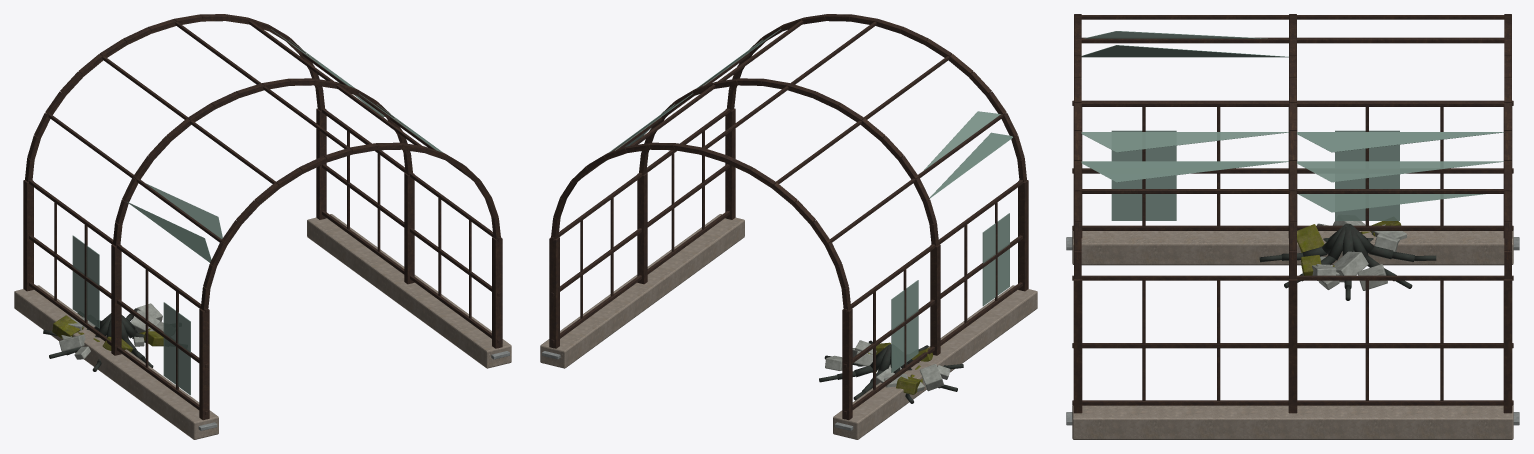
File: f3_v3_greenhouse_bay.glb
3 views of the same model, side by side, from view 1: azimuth 30°, elevation 25°; view 2: azimuth 150°, elevation 25°; view 3: azimuth 270°, elevation 25° (orthographic). The views are drawn at different scales.
Parts seen in each view (by area): view 1: f3_oxidized_iron_surface, f3_weathered_concrete_surface, filthy greenhouse remaining glass_surface, f3_exposed_aggregate_surface, f3_deep_crack_surface, f3_damp_concrete_surface; view 2: f3_oxidized_iron_surface, f3_weathered_concrete_surface, filthy greenhouse remaining glass_surface, f3_exposed_aggregate_surface, f3_deep_crack_surface, f3_damp_concrete_surface; view 3: f3_oxidized_iron_surface, f3_weathered_concrete_surface, filthy greenhouse remaining glass_surface, f3_deep_crack_surface, f3_exposed_aggregate_surface, f3_damp_concrete_surface.
Part boxes in pixels (x1,y1,x2,y2): f3_oxidized_iron_surface: (23,14,502,420); f3_weathered_concrete_surface: (14,214,511,439); filthy greenhouse remaining glass_surface: (72,29,443,395); f3_exposed_aggregate_surface: (59,303,163,359); f3_deep_crack_surface: (43,308,153,371); f3_damp_concrete_surface: (52,315,163,352); f3_oxidized_iron_surface: (549,14,1028,420); f3_weathered_concrete_surface: (540,214,1037,439); filthy greenhouse remaining glass_surface: (603,29,1012,372); f3_exposed_aggregate_surface: (825,340,950,391); f3_deep_crack_surface: (819,340,963,403); f3_damp_concrete_surface: (868,342,933,394); f3_oxidized_iron_surface: (1072,14,1513,413); f3_weathered_concrete_surface: (1072,231,1513,439); filthy greenhouse remaining glass_surface: (1081,31,1504,220); f3_deep_crack_surface: (1259,223,1436,300); f3_exposed_aggregate_surface: (1312,221,1406,290); f3_damp_concrete_surface: (1297,221,1401,275).
Bounding box in the file's own units: 8.96 × 6.16 × 8.22.
Materials: 7 (6 with a texture image).
